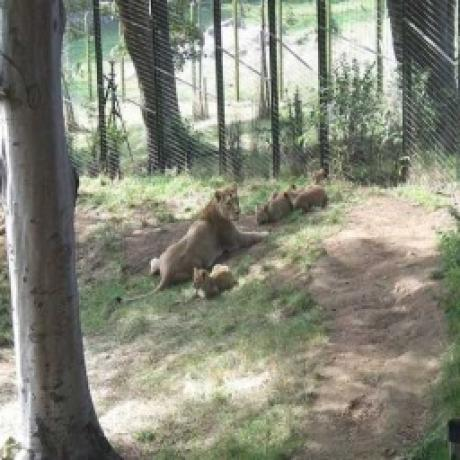Lion: (146, 182, 266, 286), (258, 182, 336, 224), (190, 262, 238, 303)
